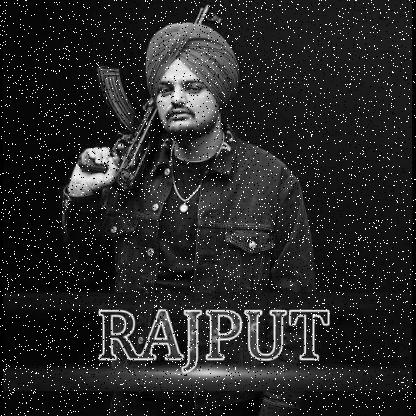rifle: (76, 3, 226, 198)
